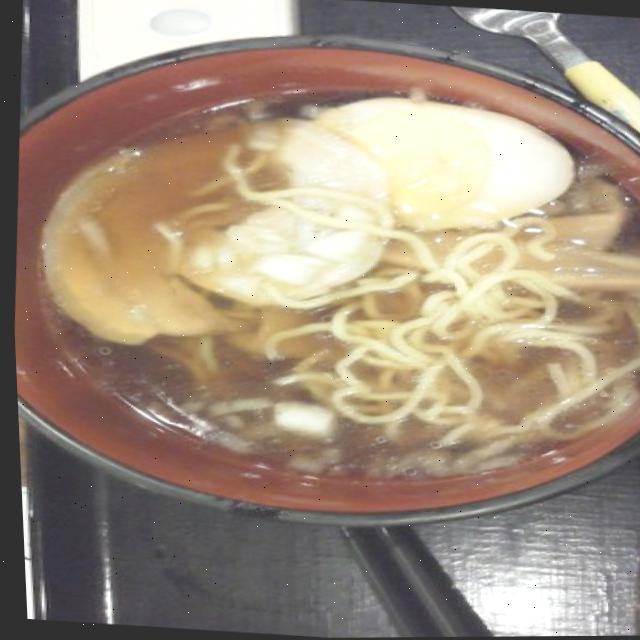面条主食: (0, 8, 640, 549)
